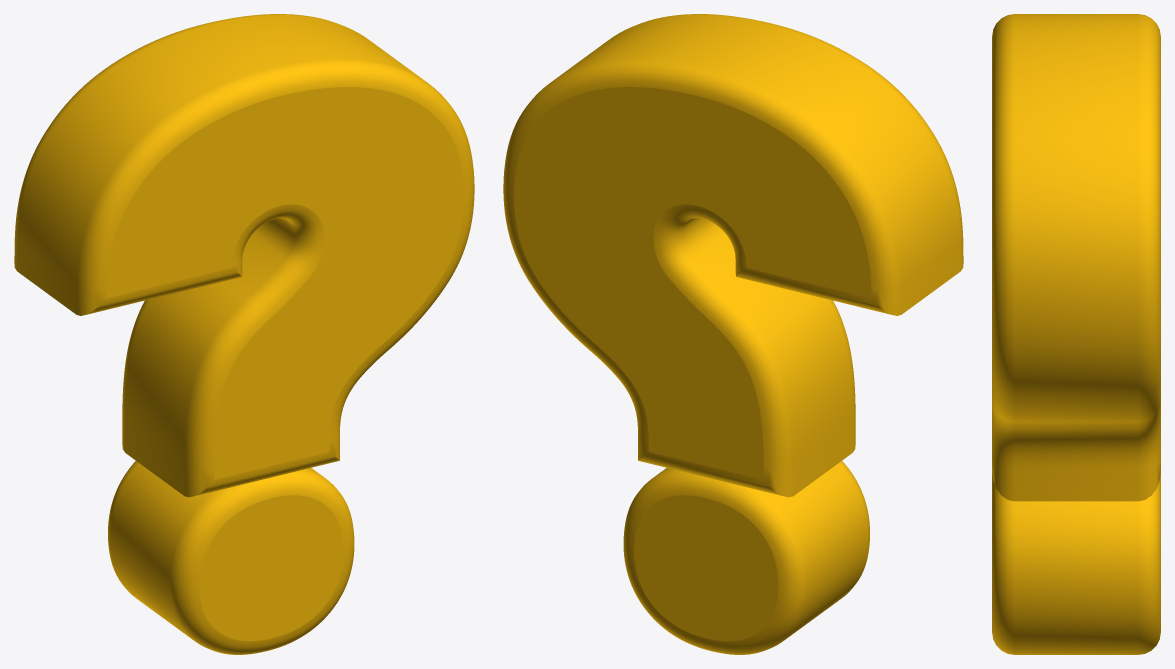
File: interrogacao.glb
The picture shows the model from 3 angles, left to right: view 1: azimuth 30°, elevation 25°; view 2: azimuth 150°, elevation 25°; view 3: azimuth 270°, elevation 25°; orthographic projection. The views are drawn at different scales.
Visible parts, largest first — view 1: interrogacao_corpo; view 2: interrogacao_corpo; view 3: interrogacao_corpo.
Part boxes in pixels (<box>): interrogacao_corpo: <box>14,14,474,654</box>; interrogacao_corpo: <box>503,14,963,654</box>; interrogacao_corpo: <box>992,14,1160,654</box>.
Size of the model in its own units: 0.4619 by 0.647 by 0.164.
